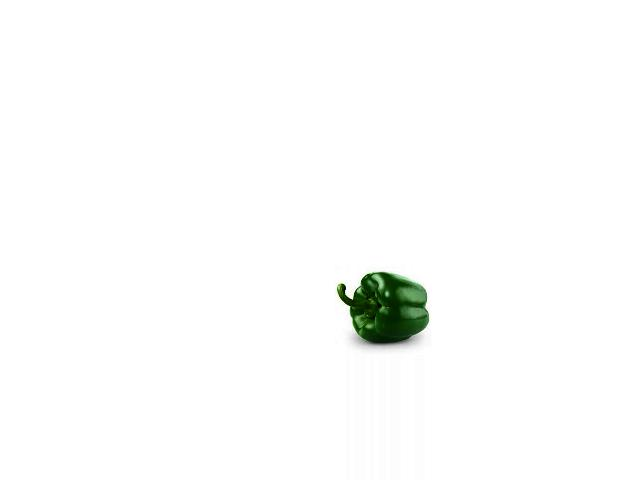bell_pepper: (335, 271, 431, 341)
